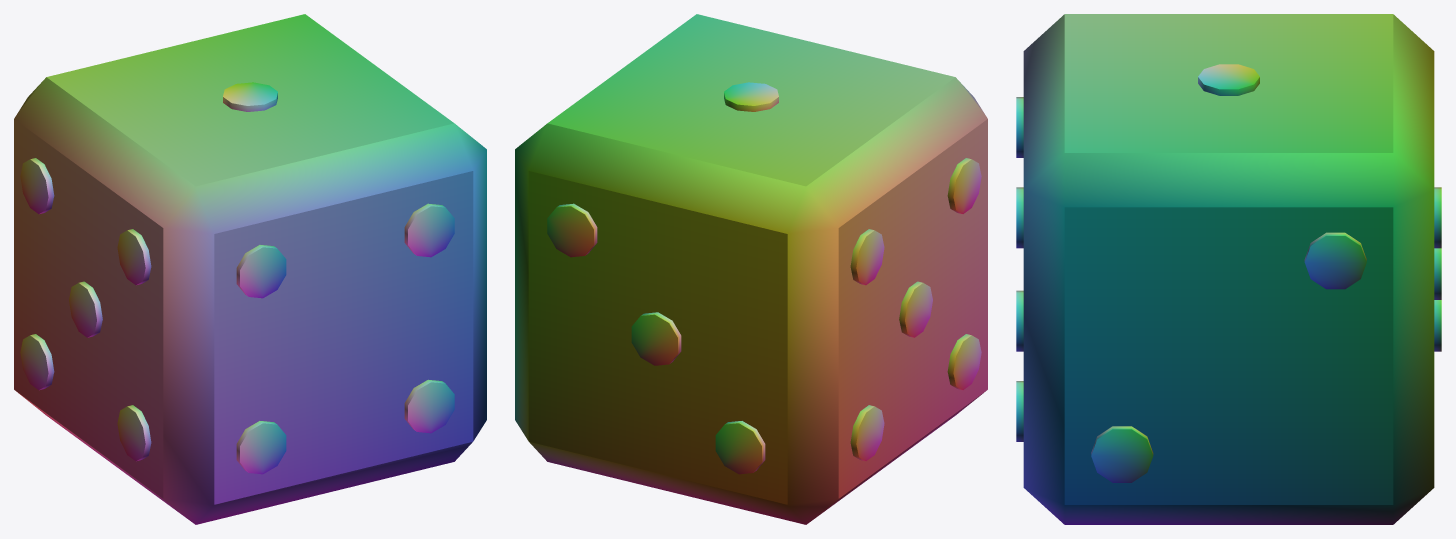
Rendered from die.fbx.
3 renders of one model, left to right at view 1: azimuth 30°, elevation 25°; view 2: azimuth 150°, elevation 25°; view 3: azimuth 270°, elevation 25°, orthographic. The views are drawn at different scales.
Visible parts, largest first — view 1: die; view 2: die; view 3: die.
Boxes of the visible parts, x1,y1,x2,y2 form: die: [14, 14, 486, 524]; die: [515, 14, 987, 524]; die: [1016, 14, 1441, 524].
Bounding box in the file's own units: 0.466 × 0.466 × 0.466.
